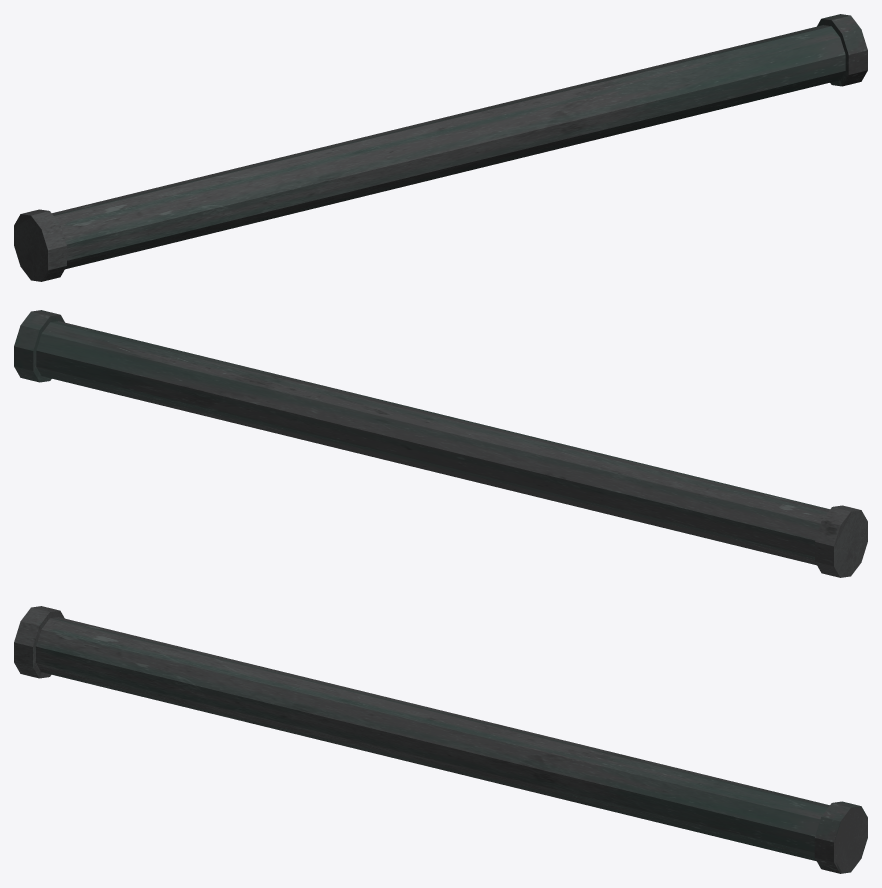
File: Pipe Long Small.fbx
3 views of the same model, one above another, from view 1: azimuth 30°, elevation 25°; view 2: azimuth 150°, elevation 25°; view 3: azimuth 330°, elevation 25° (orthographic).
Parts seen in each view (by area): view 1: Straight_Long_S; view 2: Straight_Long_S; view 3: Straight_Long_S.
Boxes of the visible parts, x1,y1,x2,y2 form: Straight_Long_S: (14,14,867,281); Straight_Long_S: (14,310,867,577); Straight_Long_S: (14,606,867,873).
Bounding box in the file's own units: 17.57 × 1.33 × 1.26.
1 material, 1 textured.
